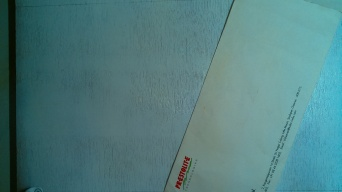l: (161, 1, 337, 191)
